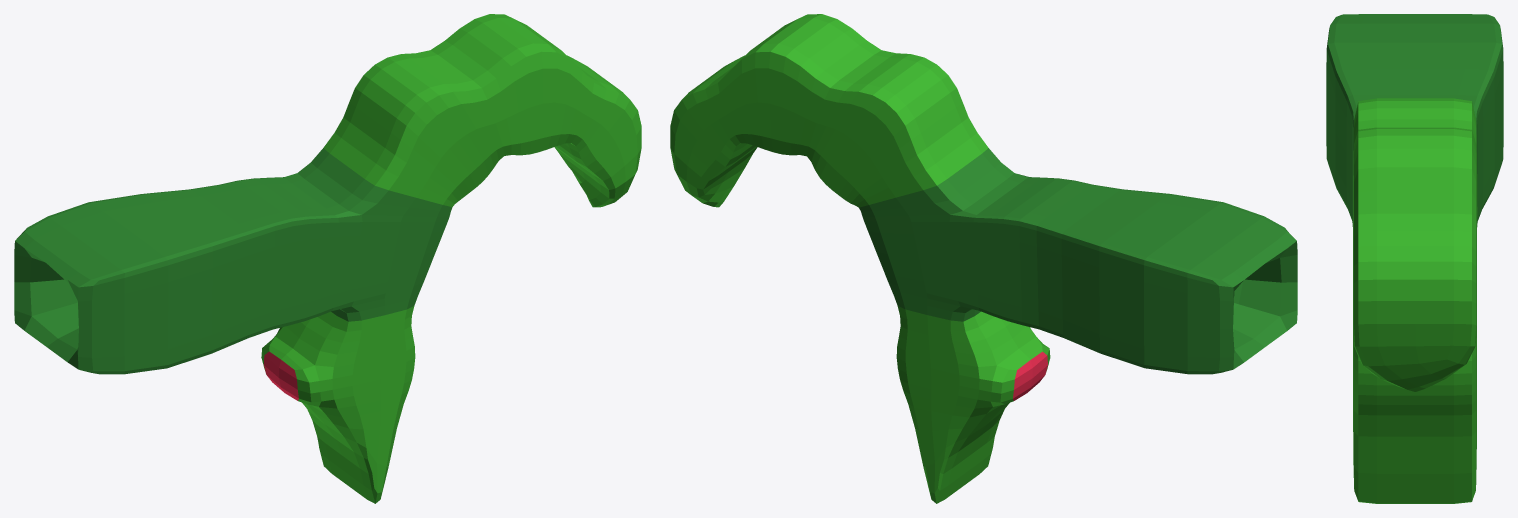
The model's file is Peagun.fbx.
3 views of the same model, side by side, from view 1: azimuth 30°, elevation 25°; view 2: azimuth 150°, elevation 25°; view 3: azimuth 270°, elevation 25° (orthographic). The views are drawn at different scales.
Visible parts, largest first — view 1: PeaGun; view 2: PeaGun; view 3: PeaGun.
Boxes of the visible parts, box(x1,y1,x2,y2) form: PeaGun: box(14, 14, 641, 503); PeaGun: box(670, 14, 1297, 503); PeaGun: box(1326, 14, 1503, 503).
Size of the model in its own units: 235 by 164 by 57.43.
